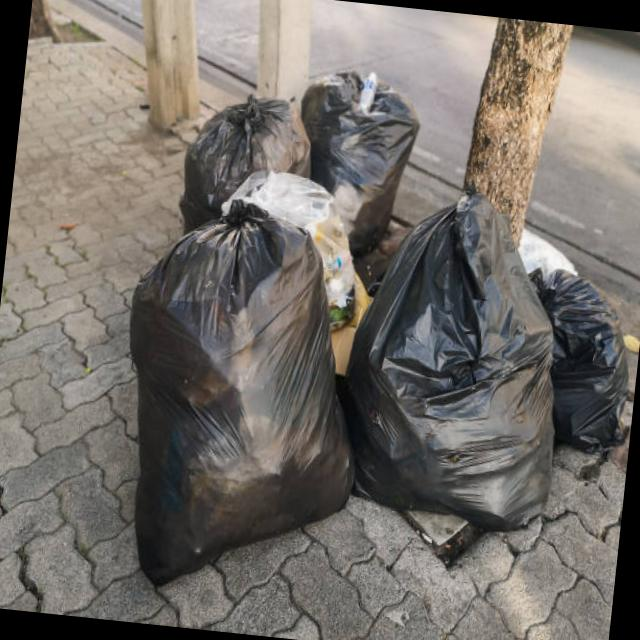garbage: (92, 49, 640, 634)
